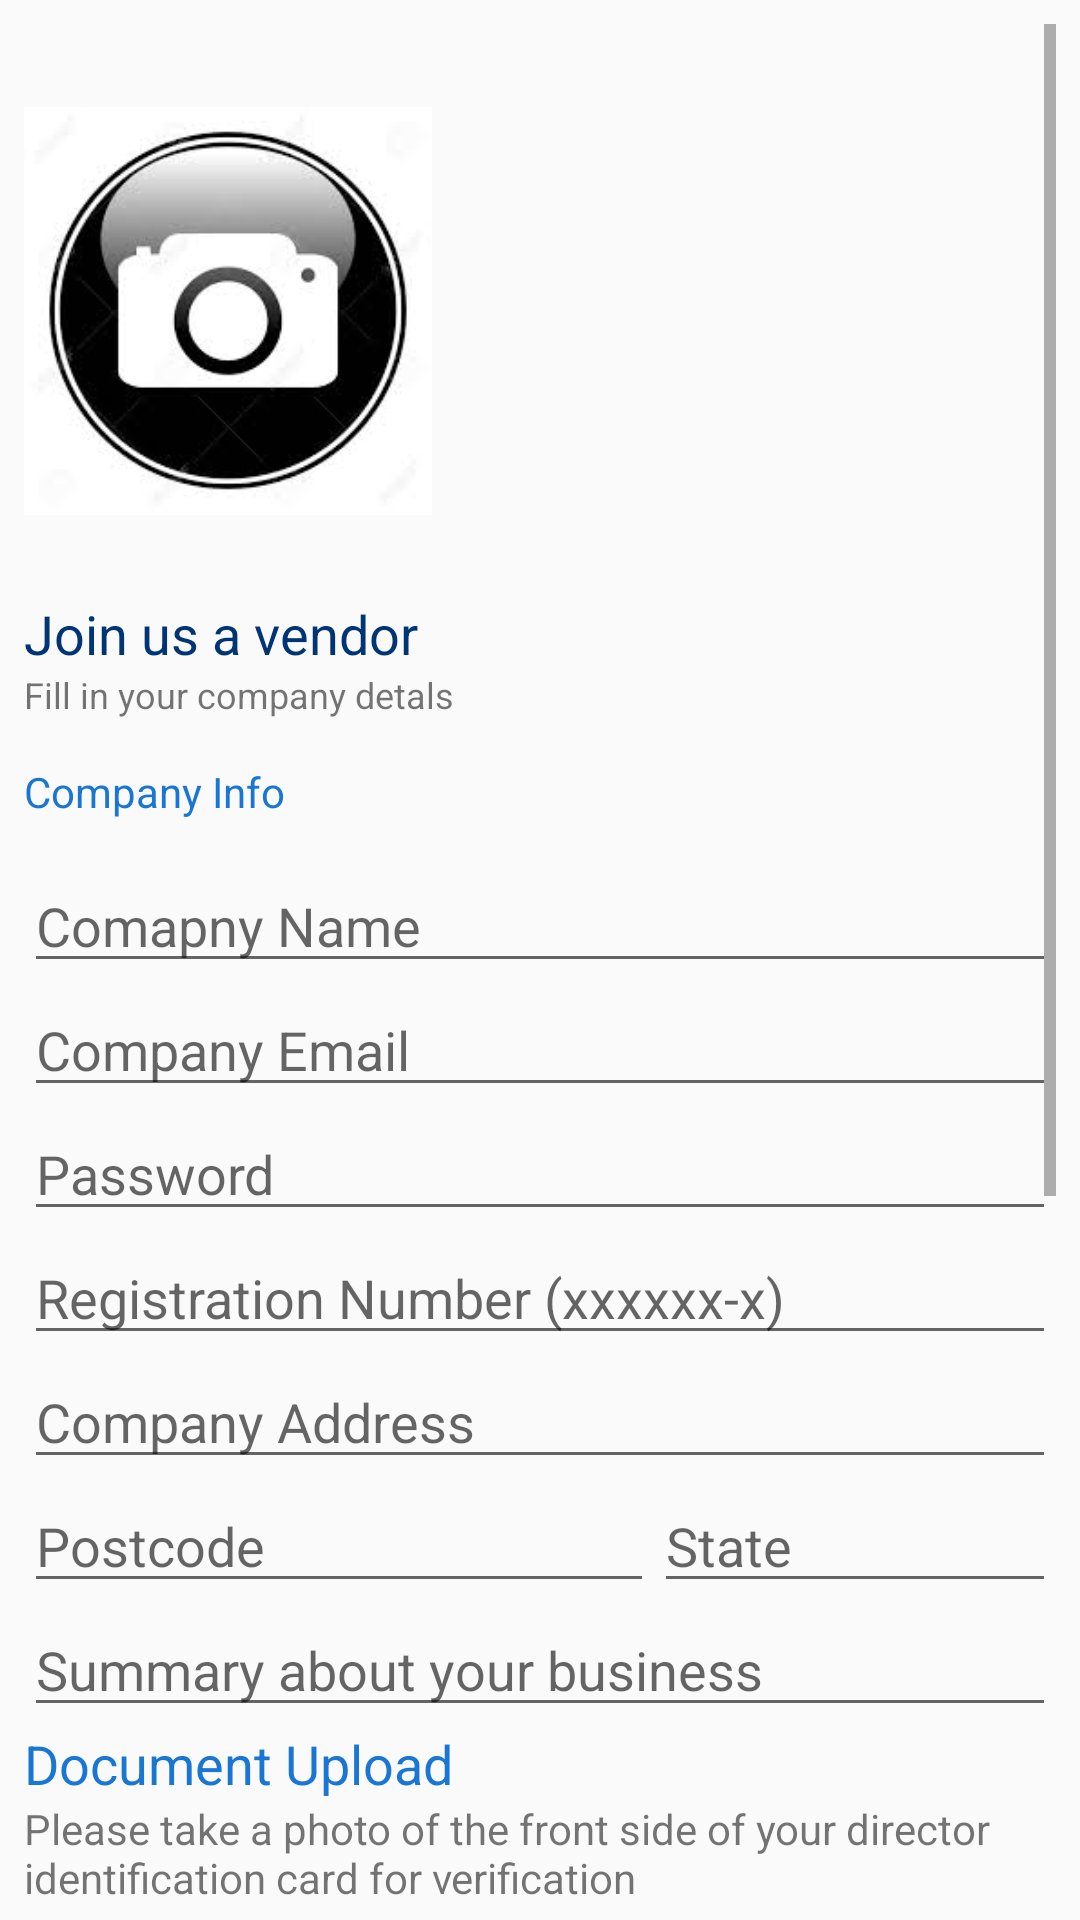

Where to tap for icons on this 1080w x 1920h app screen, as (x=x, y=y):
camera: (x=228, y=310)
